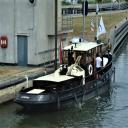tugboat: (14, 3, 118, 115)
